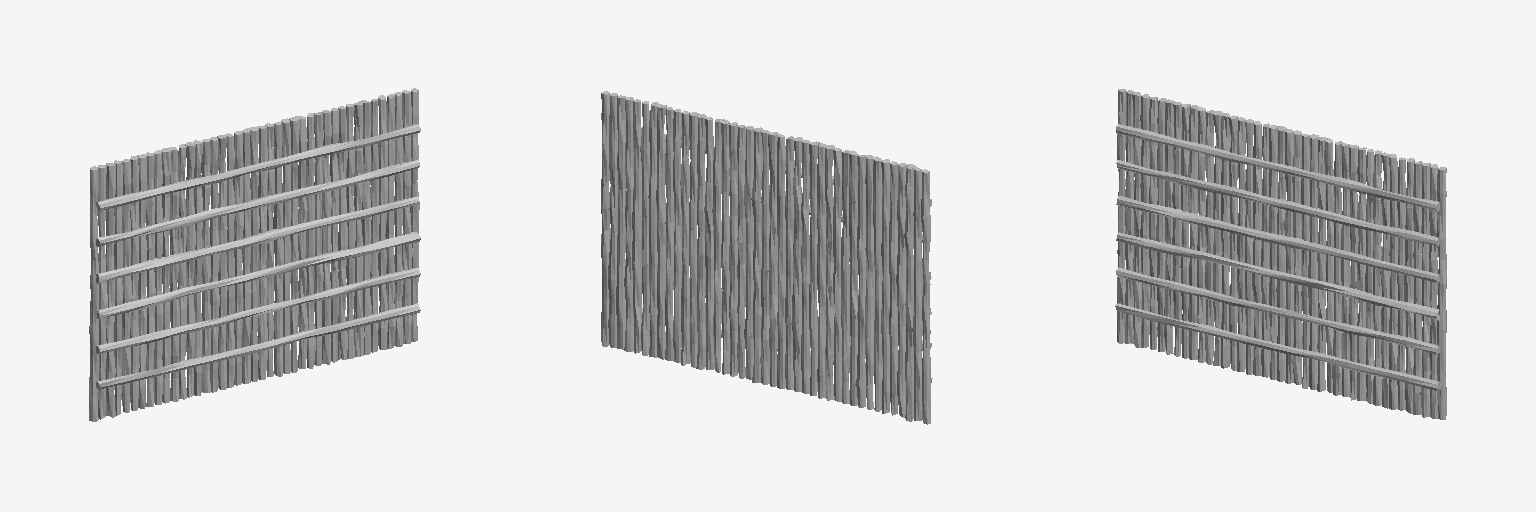
Rendered from Fence High.obj.
The picture shows the model from 3 angles: view 1: azimuth 30°, elevation 25°; view 2: azimuth 150°, elevation 25°; view 3: azimuth 330°, elevation 25°; orthographic projection.
Parts seen in each view (by area): view 1: default; view 2: default; view 3: default.
Part boxes in pixels (left/top/right/bottom): default: left=89, top=88, right=420, bottom=421; default: left=601, top=91, right=932, bottom=424; default: left=1115, top=89, right=1446, bottom=419.
Bounding box in the file's own units: 4.11 × 3.02 × 0.2276.